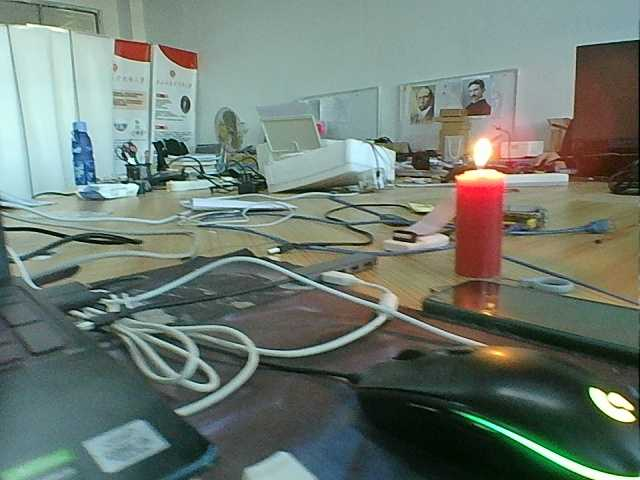candle: (449, 174, 513, 281)
fire: (464, 131, 501, 174)
